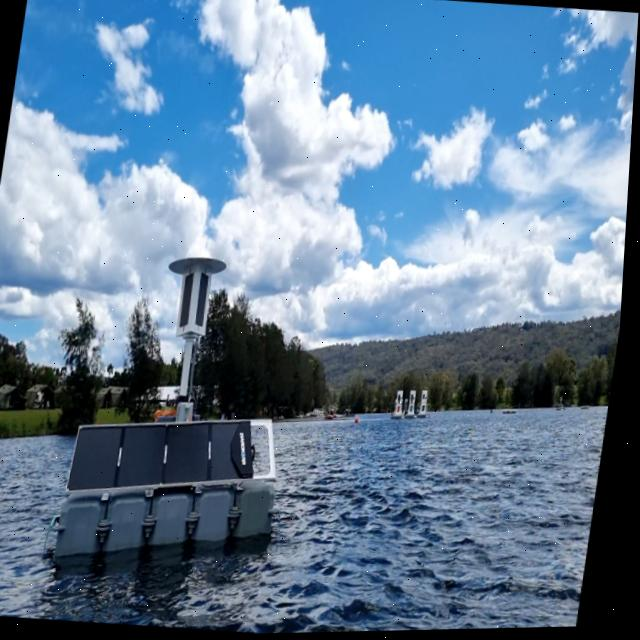led: (194, 272, 216, 333), (180, 274, 199, 331)
